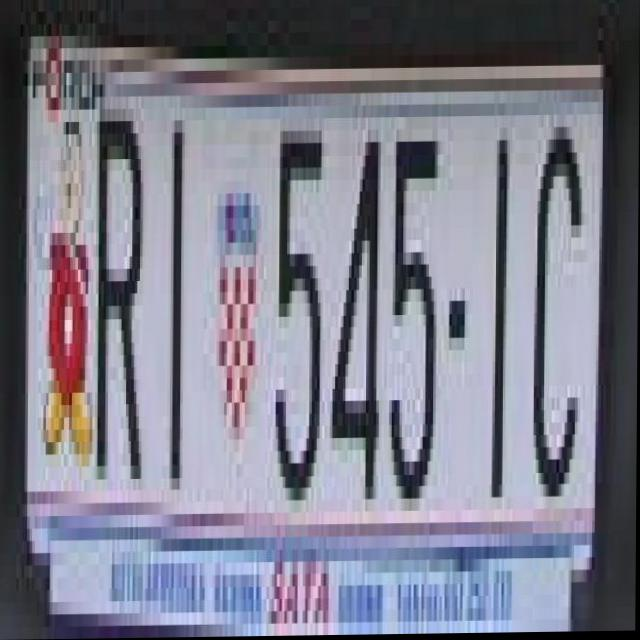4: (325, 81, 387, 476)
5: (268, 82, 322, 502), (389, 118, 443, 500)
C: (523, 104, 585, 511)
